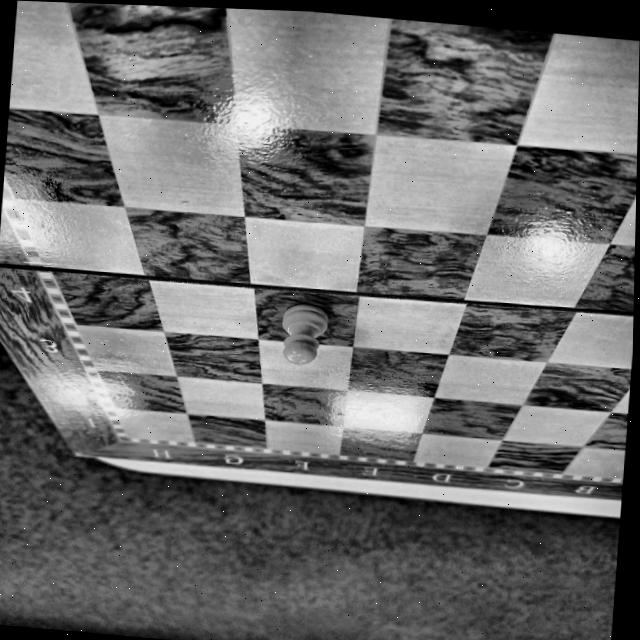white-pawn: (282, 302, 329, 365)
